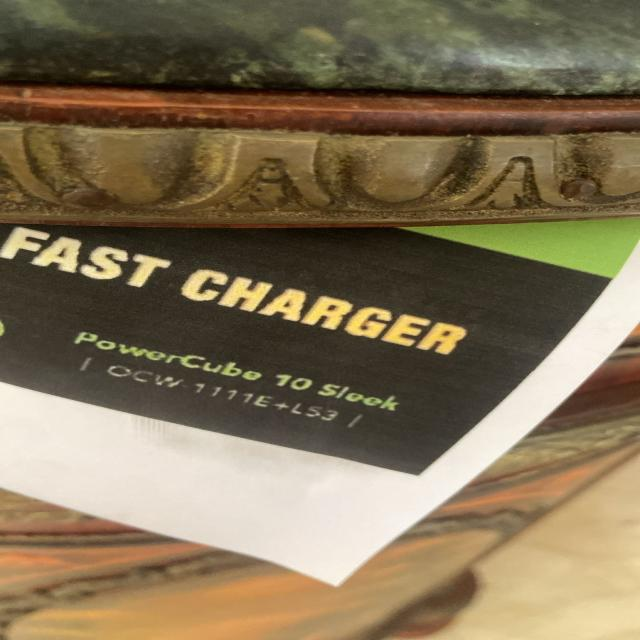PowerCube 10 Sleek OCW-1111ExL53: (68, 326, 410, 432)
